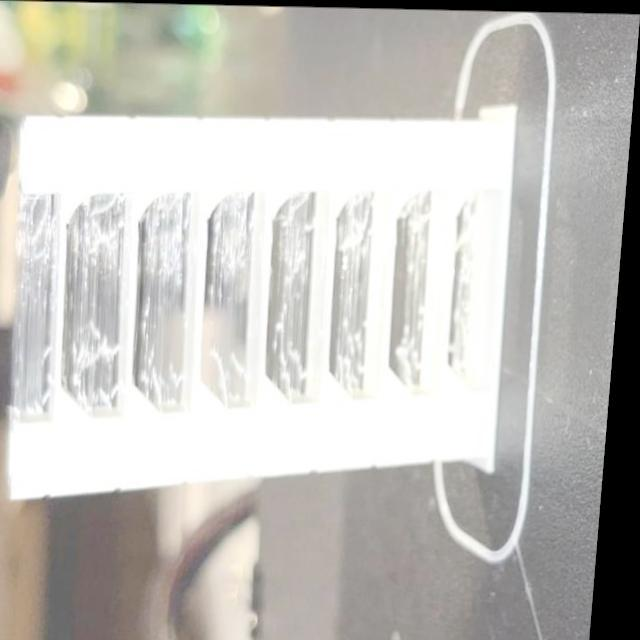stringing: (134, 185, 212, 420), (205, 182, 278, 420), (8, 186, 78, 432), (70, 184, 140, 420), (388, 181, 459, 395), (270, 178, 335, 409), (331, 180, 396, 401), (452, 181, 504, 392)
